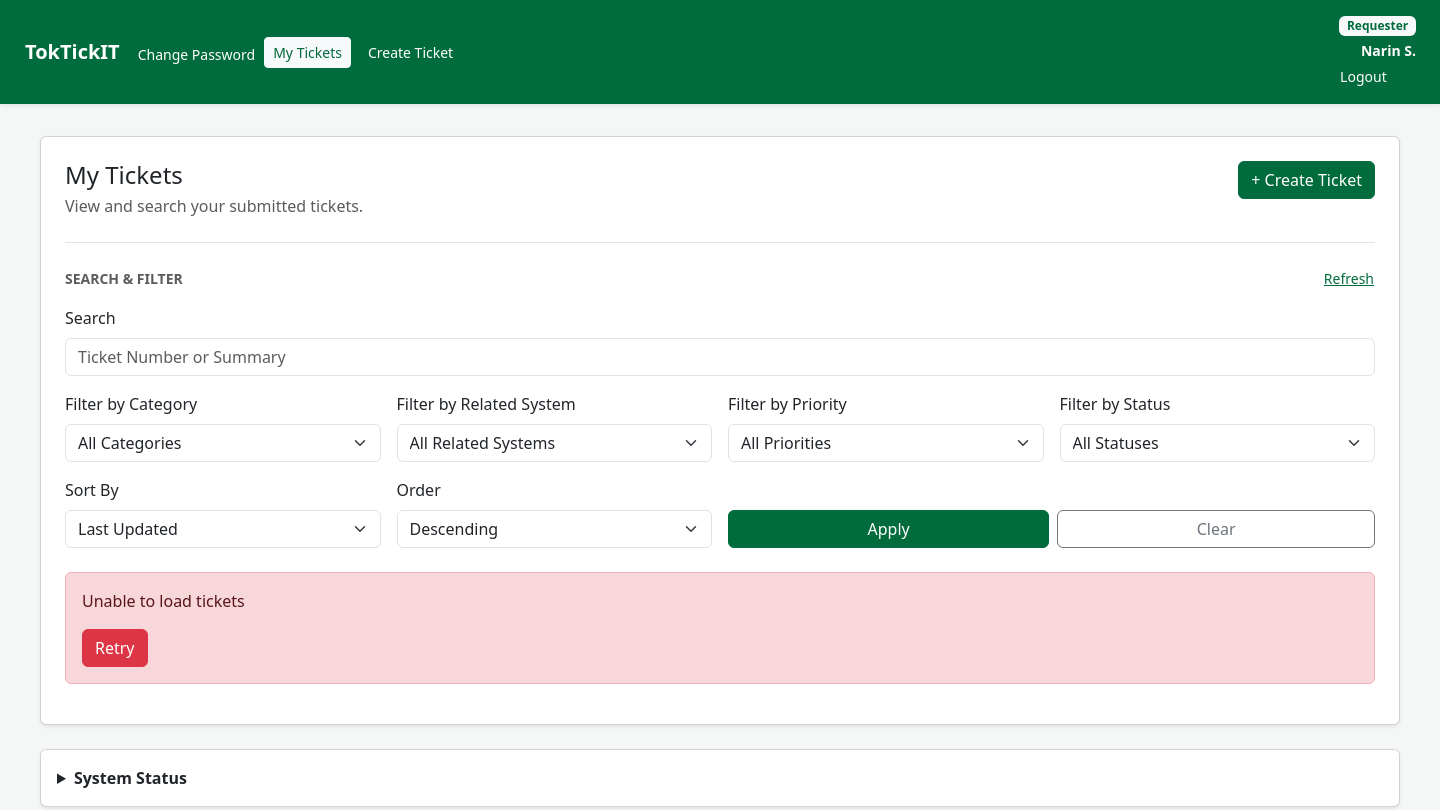
it: Lab 2 - My Tickets UI › shows an error and allows retry when loading tickets fails
Expected: the heading "My Tickets" is shown, [65,158,183,191]
Expected: the text "Unable to load tickets" is shown, [82,590,245,612]
What coordinates should you click on to do the following:
click the button "Retry"
I would click on:
 (115, 648)
Its box is [82,629,148,667].
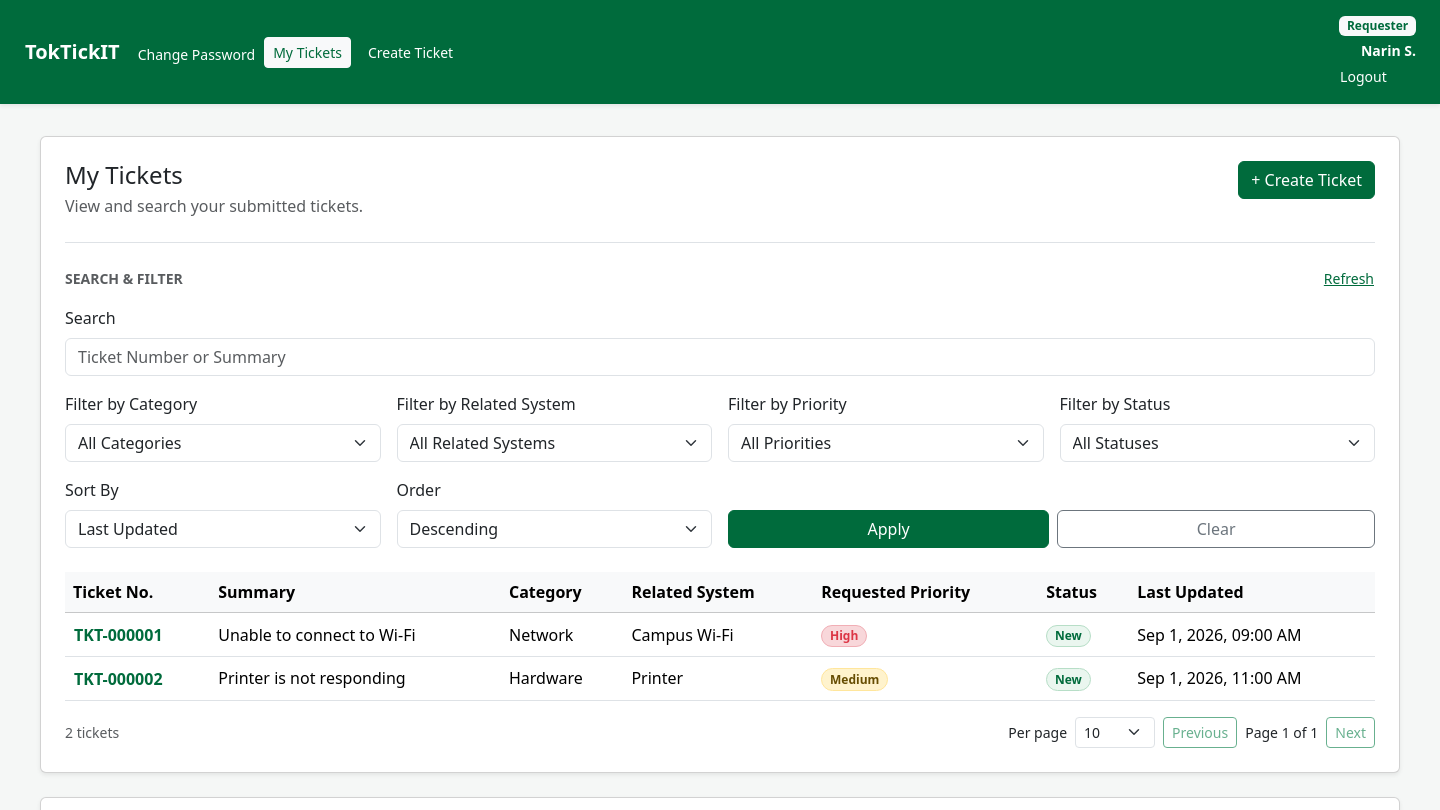
Result: the button "TKT-000001" is shown at [73,622,164,648]
